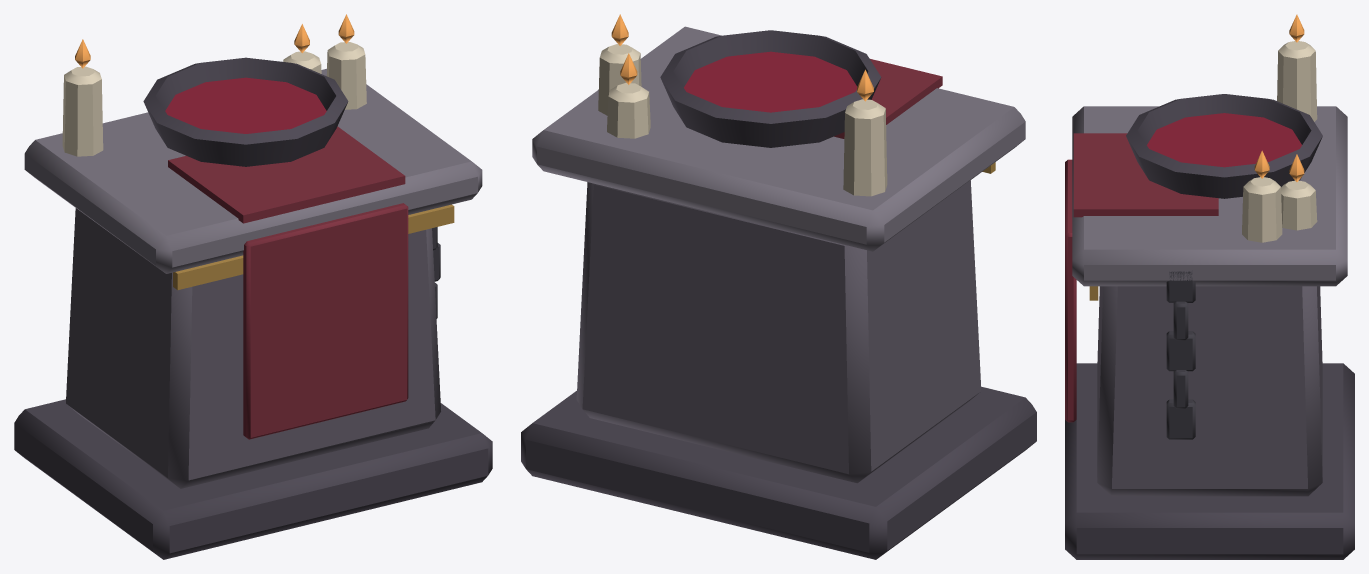
File: pact_altar.fbx
The picture shows the model from 3 angles, left to right: view 1: azimuth 30°, elevation 25°; view 2: azimuth 150°, elevation 25°; view 3: azimuth 270°, elevation 25°; orthographic projection. The views are drawn at different scales.
Visible parts, largest first — view 1: pact_altar; view 2: pact_altar; view 3: pact_altar.
Part boxes in pixels (x1,y1,x2,y2): pact_altar: [14, 14, 492, 559]; pact_altar: [521, 14, 1036, 559]; pact_altar: [1065, 14, 1354, 559].
Bounding box in the file's own units: 1.3 × 1.57 × 1.
